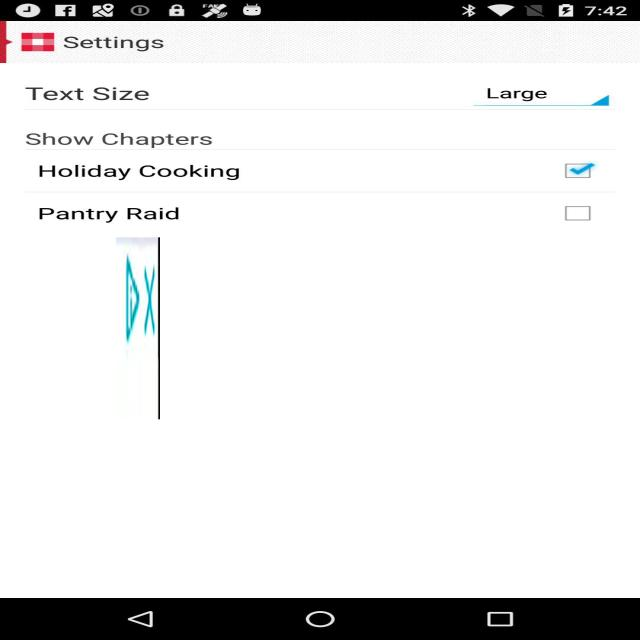sneaking: (116, 238, 160, 420)
